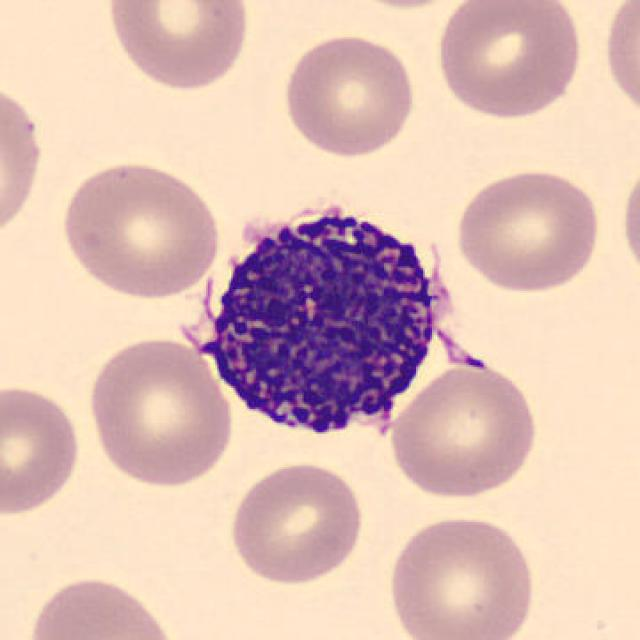Basophil: (176, 190, 464, 457)
RBC: (57, 155, 224, 302), (84, 332, 236, 490), (384, 360, 542, 500), (384, 511, 540, 640), (450, 164, 604, 294), (432, 0, 587, 122), (224, 457, 368, 587), (278, 30, 420, 160), (101, 0, 254, 93), (0, 378, 85, 518), (23, 571, 181, 640), (0, 76, 48, 247), (601, 0, 640, 125), (617, 154, 640, 288), (330, 0, 476, 12)
